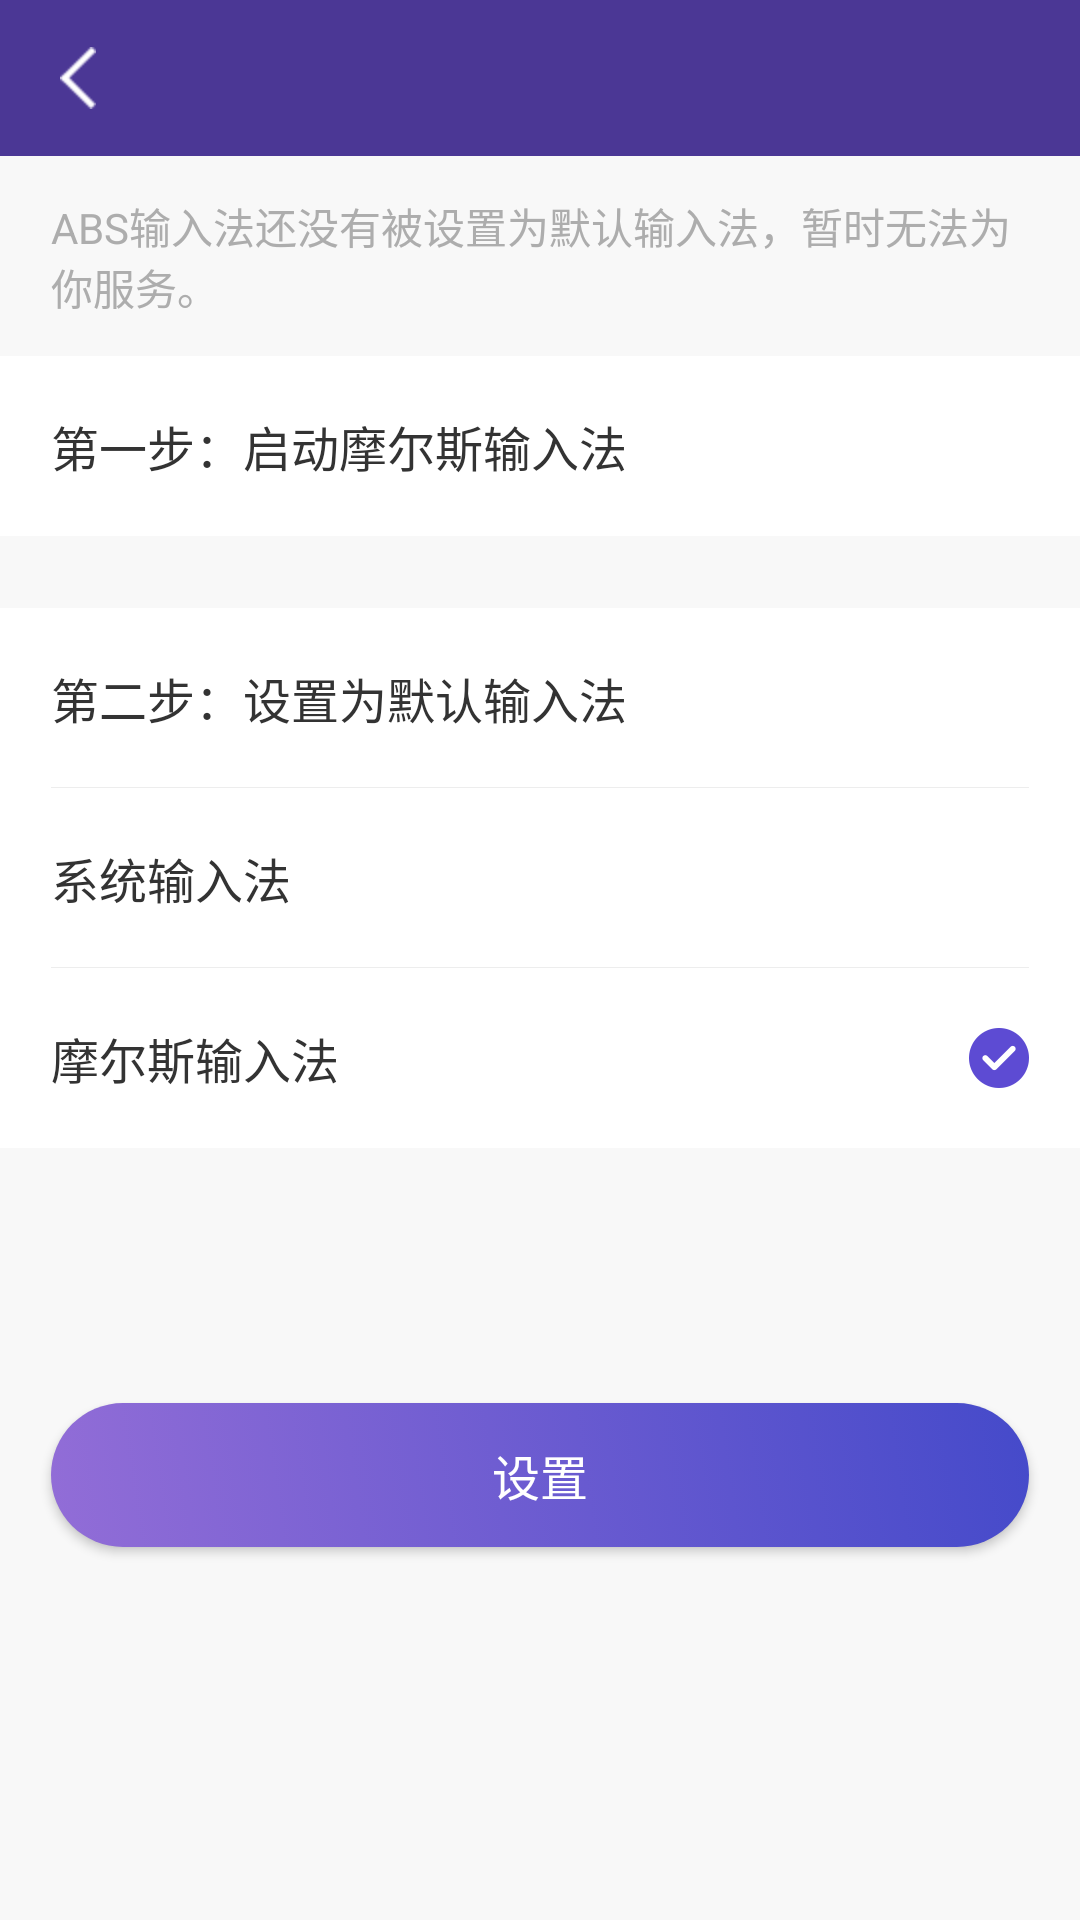

Where icons sit on this 1080x1920 app screen, as (x1, y1, x2, y2):
home guide success: (969, 1028, 1029, 1088)
title back: (60, 47, 96, 109)
